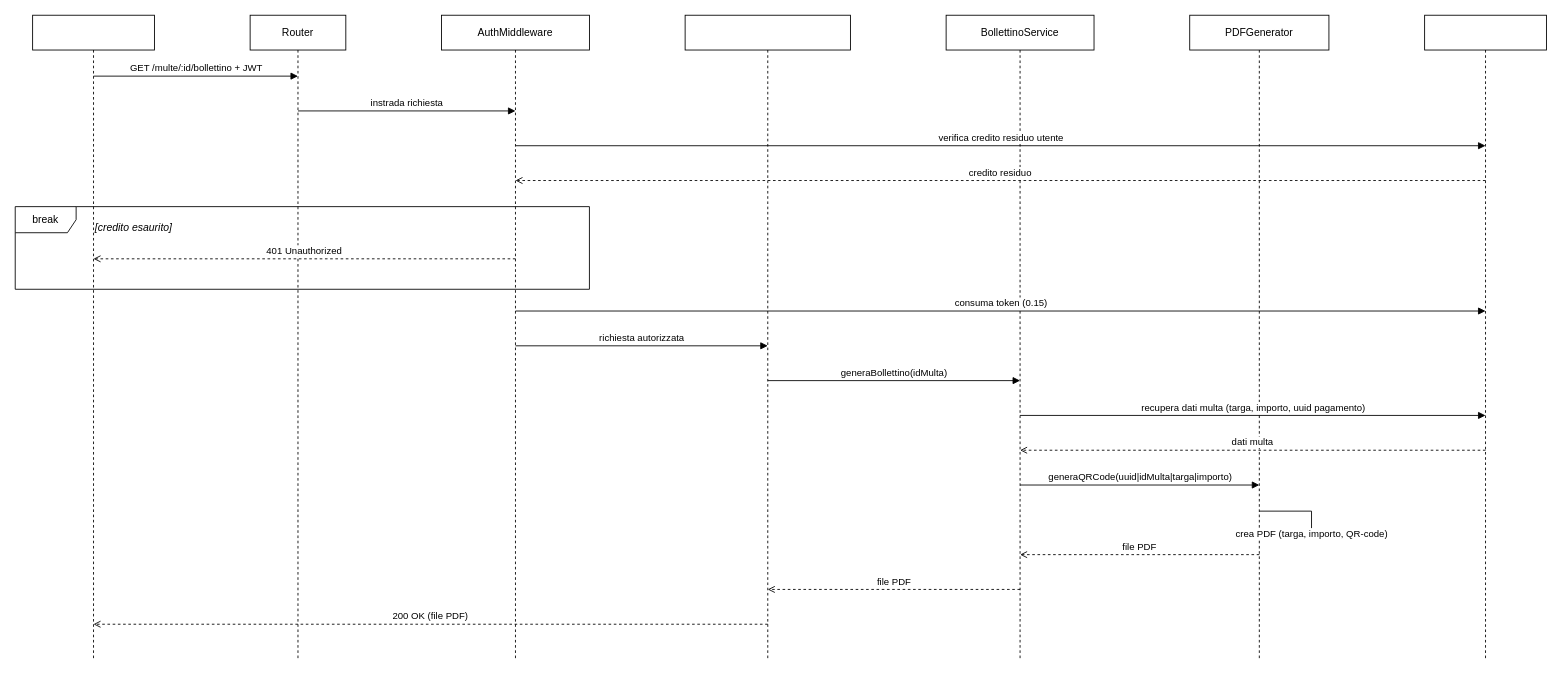
The diagram is 1562 pixels wide and 674 high, and some of its shapes have lost their labels. Here are the shapes that lost their labels. From the top down, the box of each, then its label:
(32, 14, 154, 659): Automobilista / Operatore
(684, 14, 850, 659): BollettinoController
(1424, 14, 1546, 659): Database
